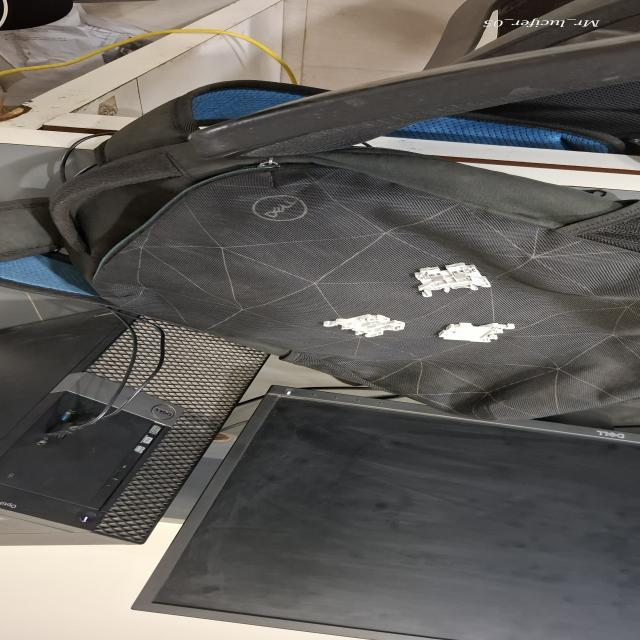Inverted: (433, 318, 518, 344)
Pass: (404, 262, 497, 298)
Reject: (320, 312, 408, 338)
